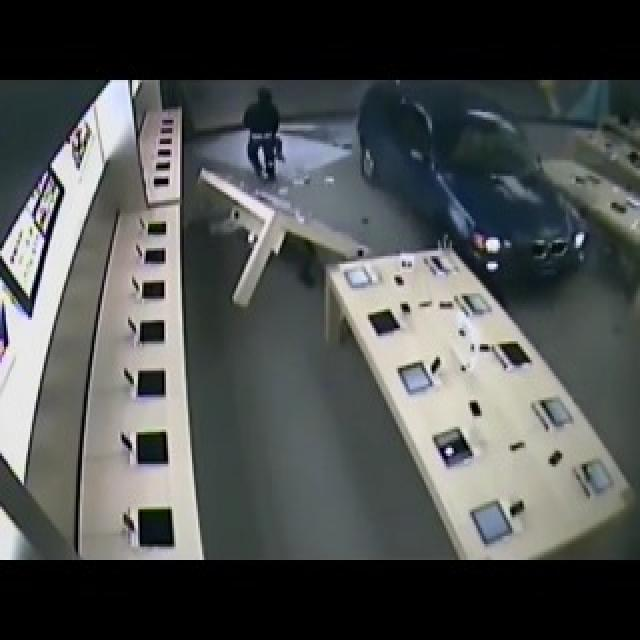thief: (241, 86, 294, 190)
